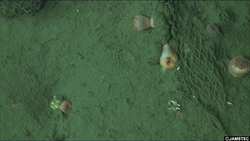fishing net: (165, 4, 227, 135), (1, 1, 46, 18)
